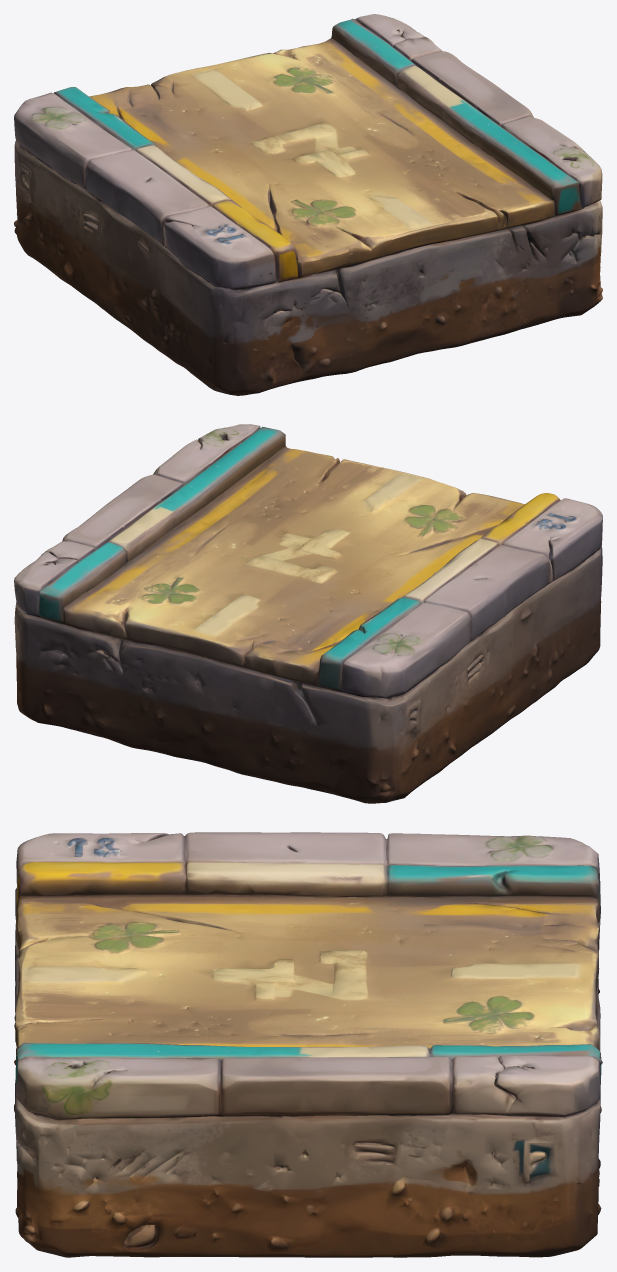
File: road_slab_lucky.glb
3 views of the same model, one above another, from view 1: azimuth 30°, elevation 25°; view 2: azimuth 150°, elevation 25°; view 3: azimuth 270°, elevation 25° (orthographic). The views are drawn at different scales.
Parts seen in each view (by area): view 1: tripo_part_2, tripo_part_0, tripo_part_3, tripo_part_1, tripo_part_4; view 2: tripo_part_2, tripo_part_0, tripo_part_3, tripo_part_1, tripo_part_4; view 3: tripo_part_2, tripo_part_3, tripo_part_4, tripo_part_0, tripo_part_1.
Part boxes in pixels (<box>): tripo_part_2: <box>89,38,554,277</box>; tripo_part_0: <box>14,185,602,395</box>; tripo_part_3: <box>14,140,602,346</box>; tripo_part_1: <box>14,87,298,289</box>; tripo_part_4: <box>331,14,602,215</box>; tripo_part_2: <box>60,446,524,685</box>; tripo_part_0: <box>16,600,600,803</box>; tripo_part_3: <box>14,546,602,753</box>; tripo_part_1: <box>317,493,602,699</box>; tripo_part_4: <box>14,424,285,623</box>; tripo_part_2: <box>15,894,600,1050</box>; tripo_part_3: <box>15,888,600,1200</box>; tripo_part_4: <box>15,1042,602,1119</box>; tripo_part_0: <box>14,978,601,1257</box>; tripo_part_1: <box>16,832,600,913</box>.
Bounding box in the file's own units: 0.9805 × 0.3439 × 0.9777.
Materials: 1 (1 with a texture image).
